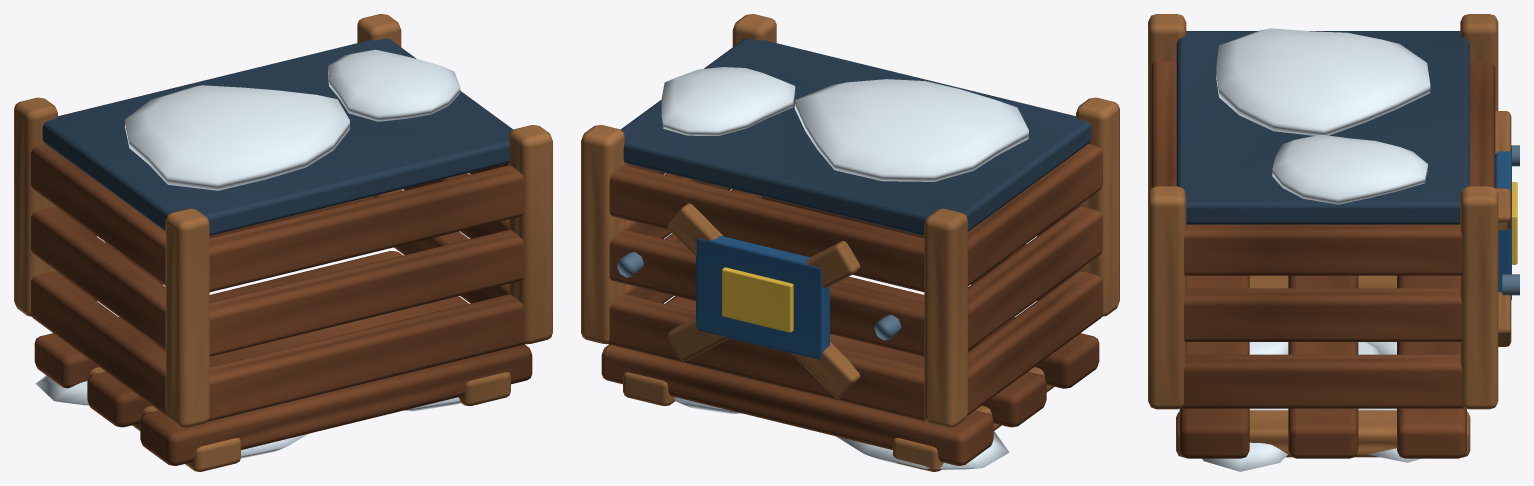
Rendered from cargo_crate.glb.
3 views of the same model, side by side, from view 1: azimuth 30°, elevation 25°; view 2: azimuth 150°, elevation 25°; view 3: azimuth 270°, elevation 25° (orthographic). The views are drawn at different scales.
Parts seen in each view (by area): view 1: cargo_crate; view 2: cargo_crate; view 3: cargo_crate.
Part boxes in pixels (x1,y1,x2,y2): cargo_crate: (14, 14, 552, 471); cargo_crate: (581, 14, 1119, 471); cargo_crate: (1148, 14, 1519, 471).
Bounding box in the file's own units: 1.45 × 1.07 × 1.17.
